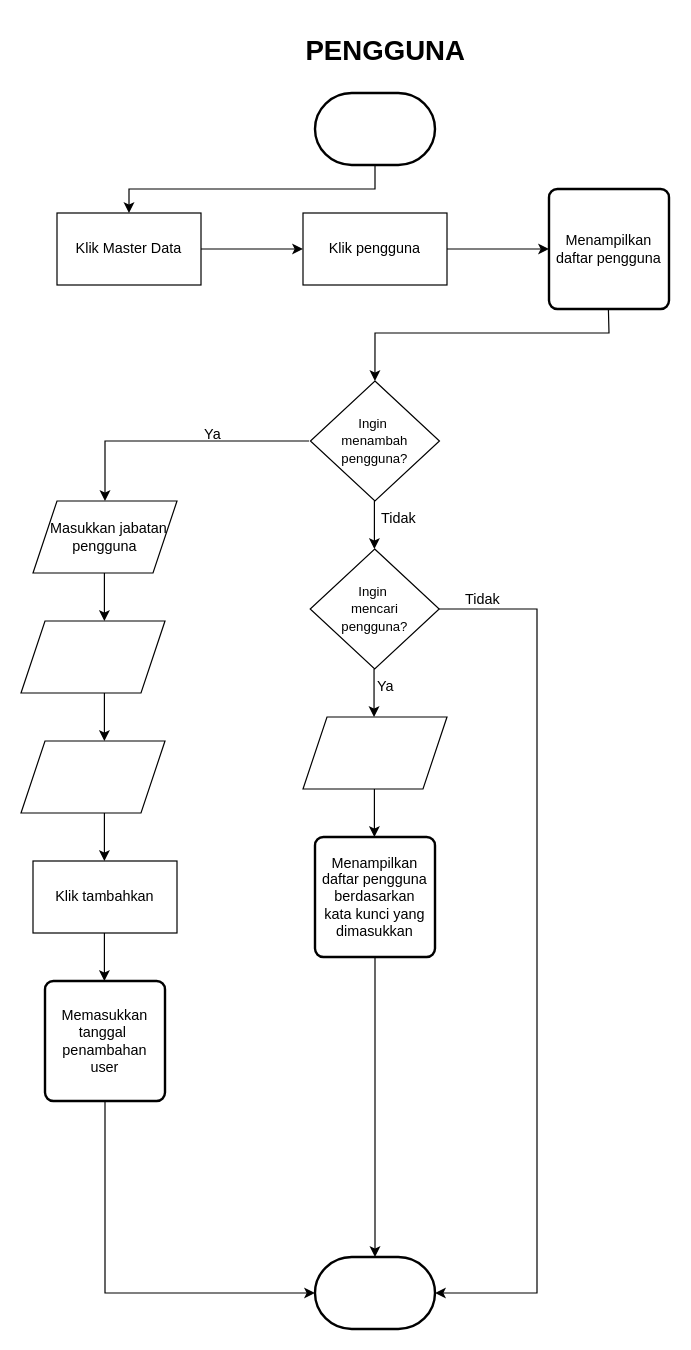
This 691x1350 diagram has some shape labels left out. The centre of each missing label's shape, as x and y in pixels:
Masukkan email pengguna: the point at 92,776
Masukkan nama lengkap pengguna: the point at 92,656
Masukkan nama pengguna: the point at 374,752
Mulai: the point at 374,128
Selesai: the point at 374,1292
